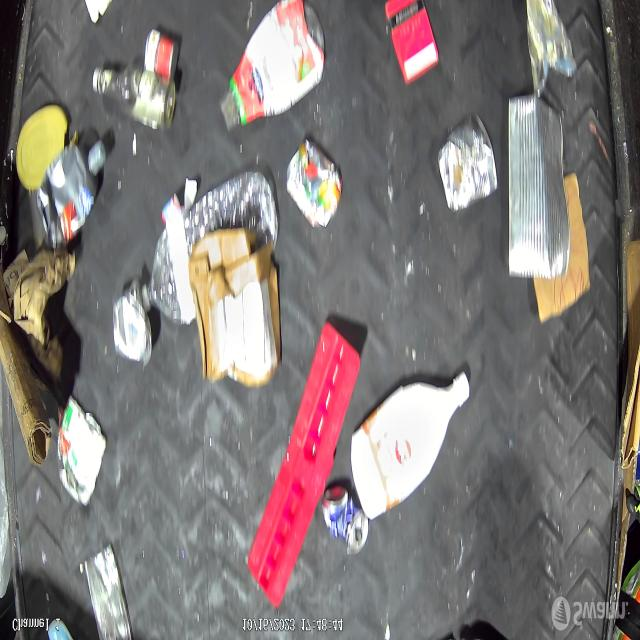can: (507, 100, 571, 282), (438, 120, 496, 214), (60, 394, 105, 511), (320, 483, 370, 557)
plastic_bottle: (141, 186, 277, 319)
